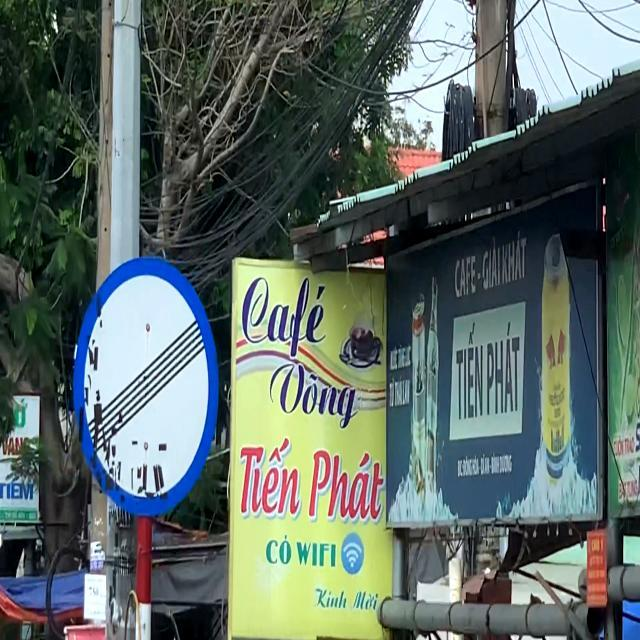DP-135: (70, 256, 217, 516)
